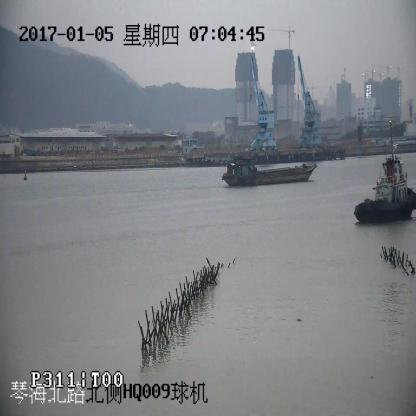Bulk Carrier: (224, 162, 318, 188)
